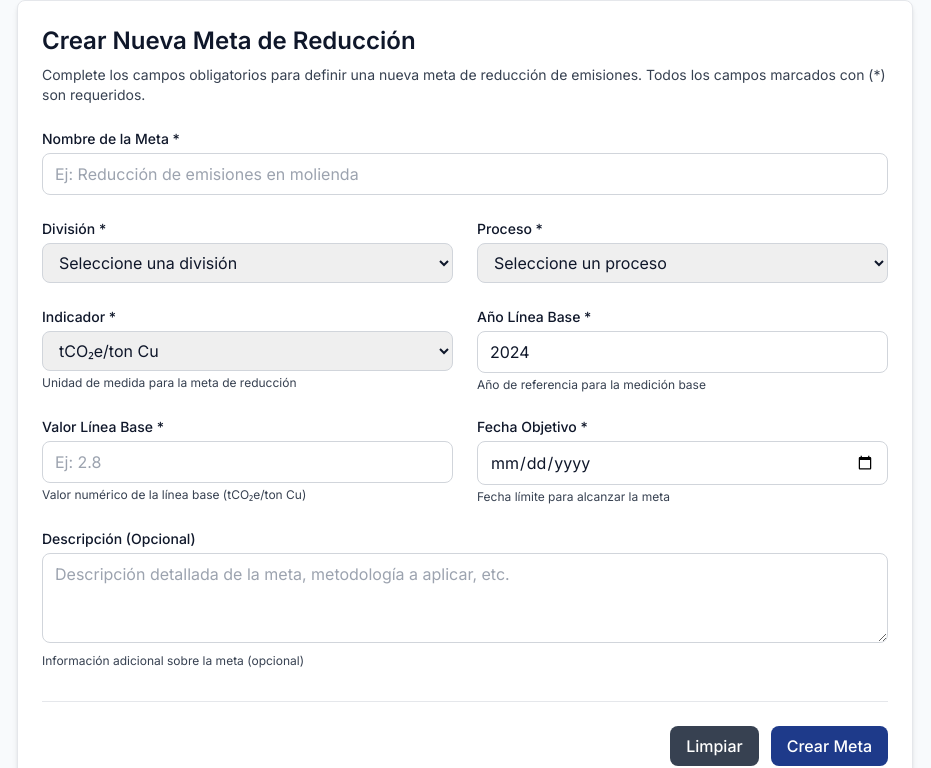
FormularioMeta › debe validar fecha objetivo futura
The image size is (931, 768).
Note: Intentar poner fecha pasada
Type "2020-01-01" into the date field labelled "Fecha Objetivo *" at [682, 463], box [477, 441, 888, 485]
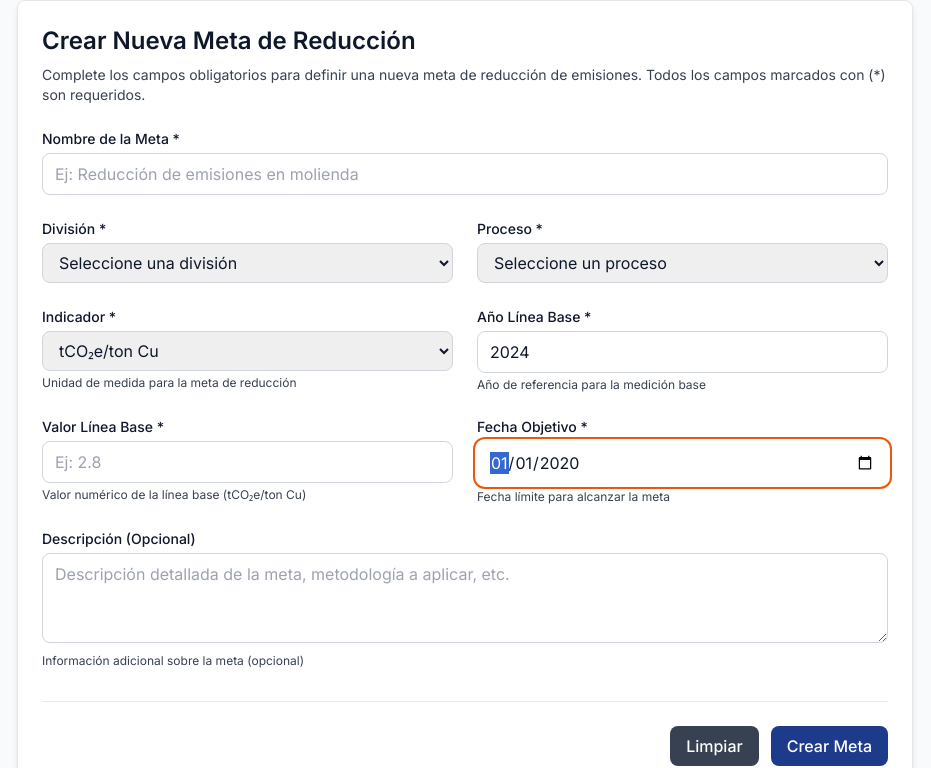
Click the button "Crear Meta" at [829, 746], box [771, 726, 888, 766]
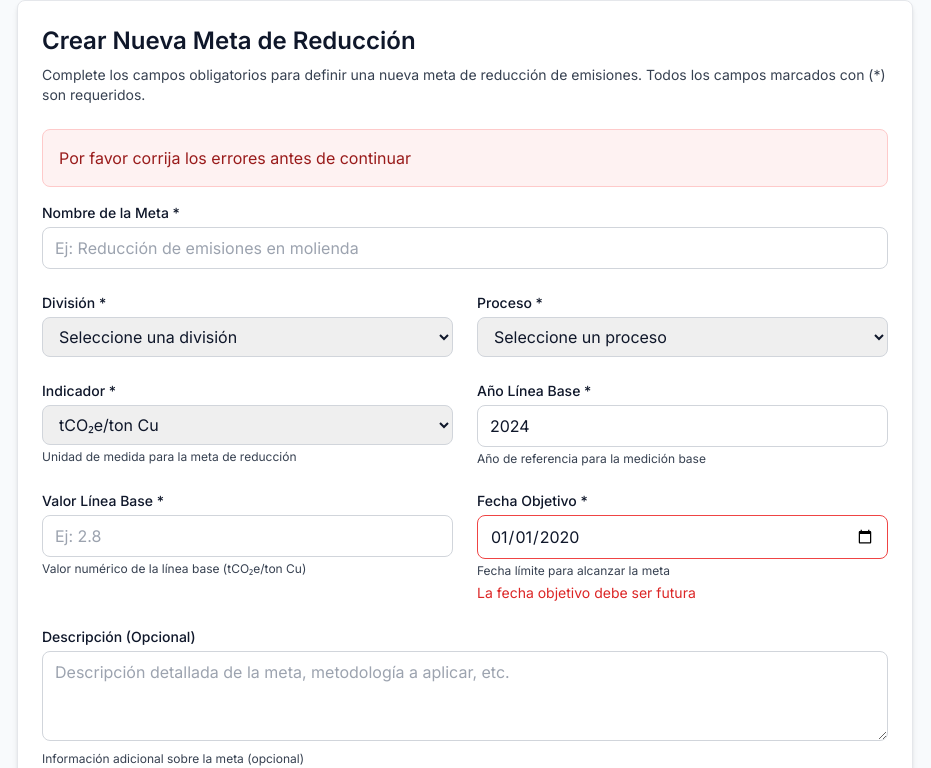
Result: the text "La fecha objetivo debe ser futura" is shown at [477, 584, 696, 601]
